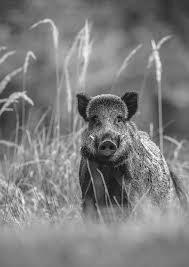wildboar: (71, 85, 189, 227)
